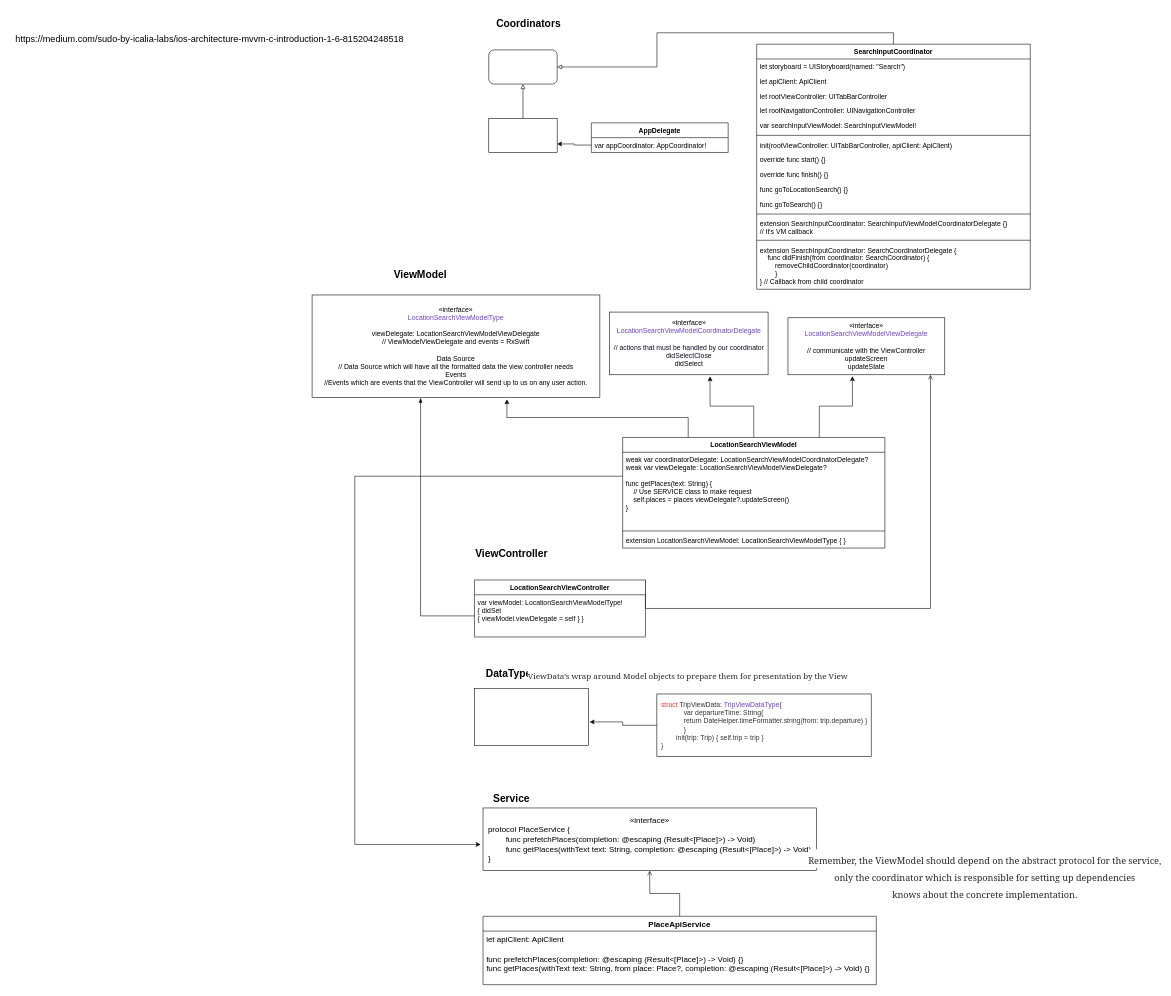
Image size: 1171x996. Some labels were removed from this diagram. Each missing label, with the centre of its shape:
"AppCordinator" belongs at point 522,135.
"Coordinator" belongs at point 522,66.
"«interface» TripViewDataType var departureTime: String { get }" belongs at point 531,716.
